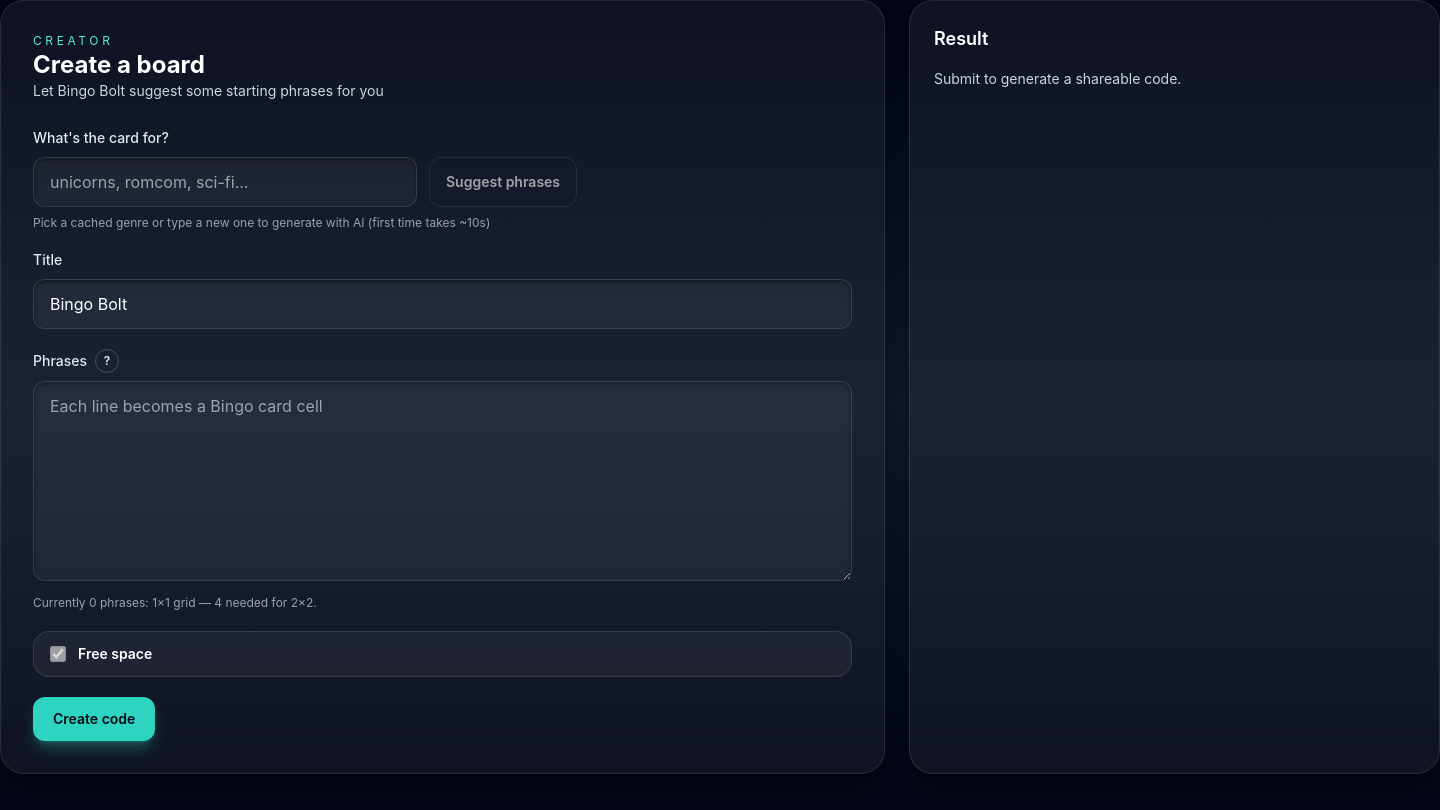
Test: CreatePage › updates title when genre is entered and title is not dirty
The width and height of the screenshot is (1440, 810).
Expected: the field labelled "Title" holds "Bingo Bolt", 33,279 -> 852,329
Type "unicorns" into the field labelled "What's the card for?" at [225, 182], box 33,157 -> 417,207
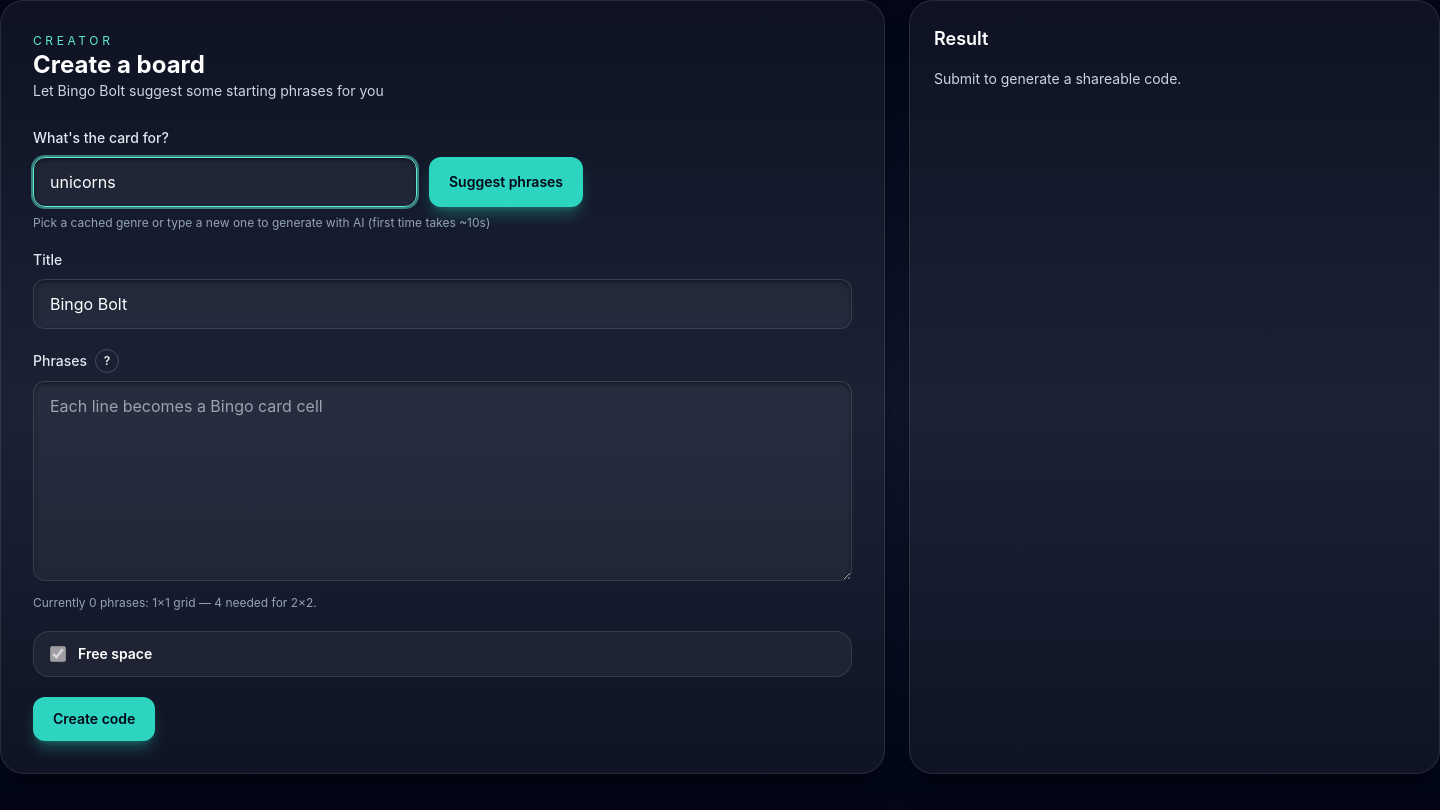
Click the button "Suggest phrases" at [506, 182], box 429,157 -> 583,207
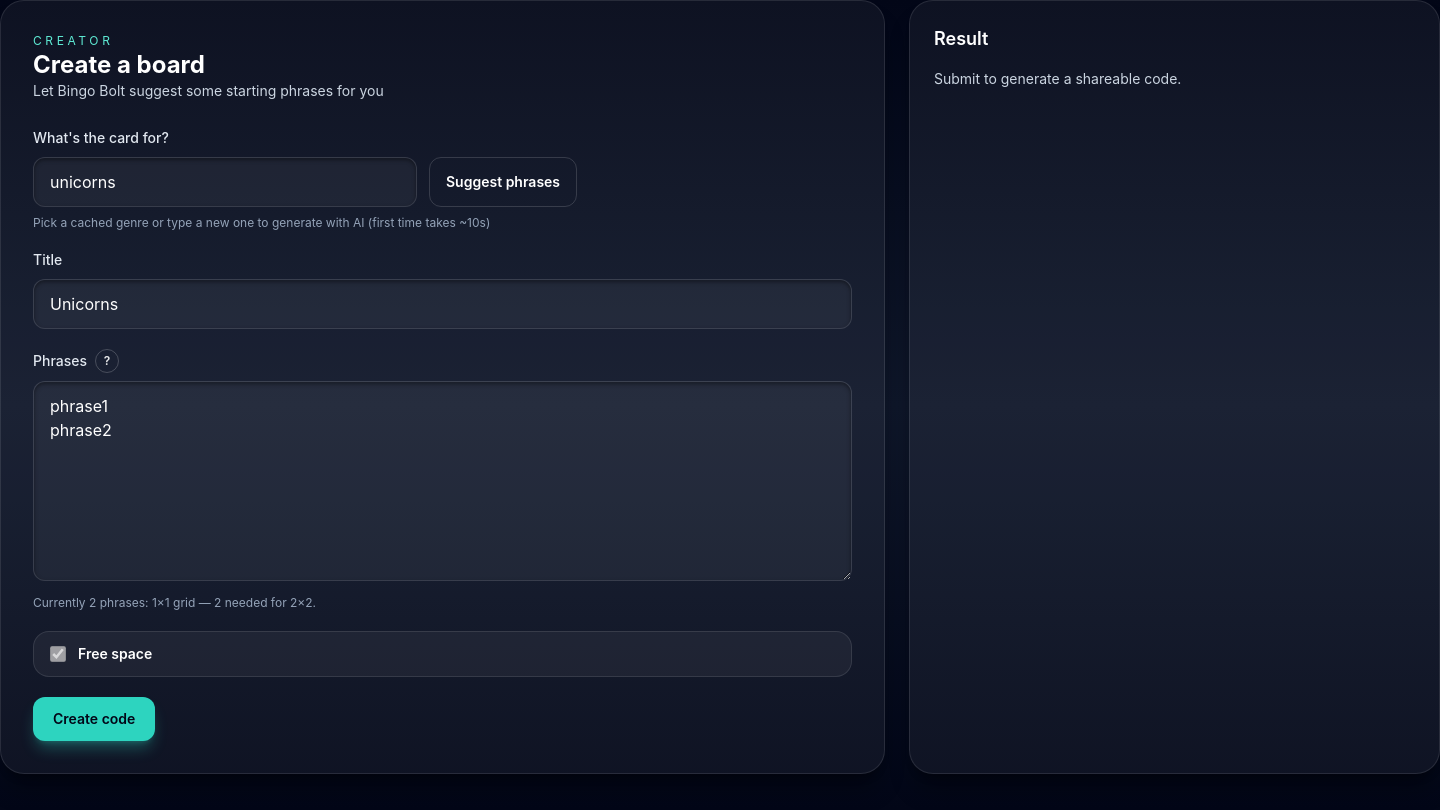
Expected: the field labelled "Title" holds "Unicorns", 33,279 -> 852,329
